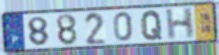0: (112, 11, 136, 43)
2: (83, 11, 109, 46)
8: (55, 13, 79, 47), (26, 16, 52, 47)
H: (164, 6, 196, 42)
Q: (140, 10, 163, 42)
